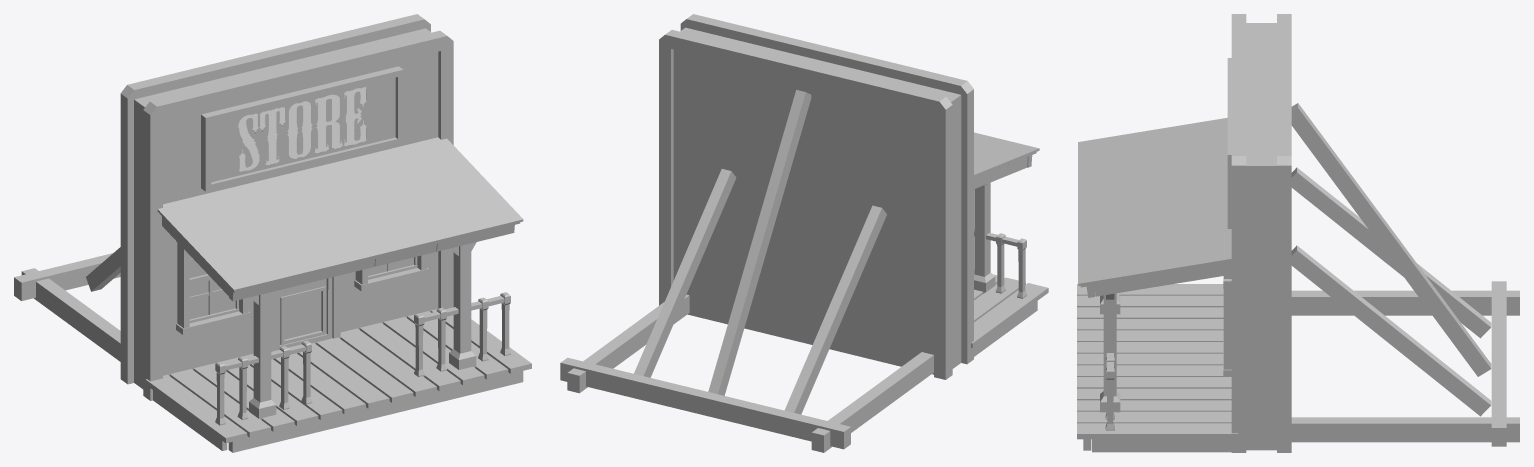
The model's file is SM_STORE.fbx.
The picture shows the model from 3 angles, left to right: view 1: azimuth 30°, elevation 25°; view 2: azimuth 150°, elevation 25°; view 3: azimuth 270°, elevation 25°; orthographic projection. The views are drawn at different scales.
Parts seen in each view (by area): view 1: SM_STORE; view 2: SM_STORE; view 3: SM_STORE.
Part boxes in pixels (<box>): SM_STORE: <box>14,14,531,452</box>; SM_STORE: <box>560,14,1048,452</box>; SM_STORE: <box>1077,14,1519,452</box>.
Size of the model in its own units: 618 by 565 by 772.
